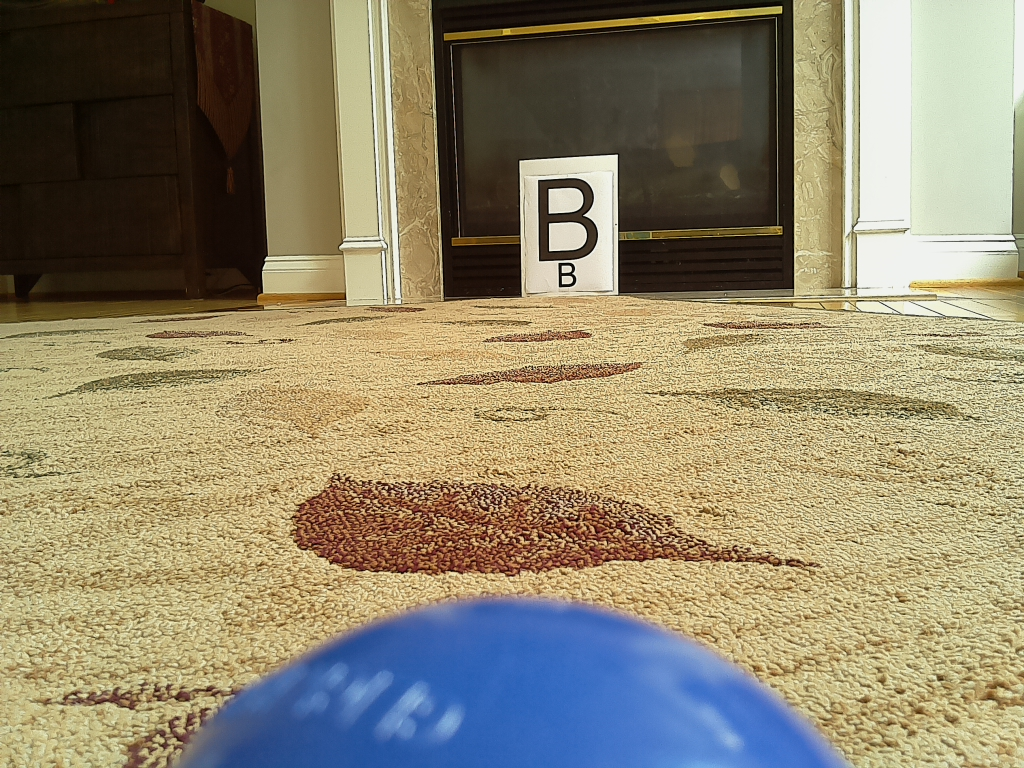letter: (539, 179, 598, 262)
